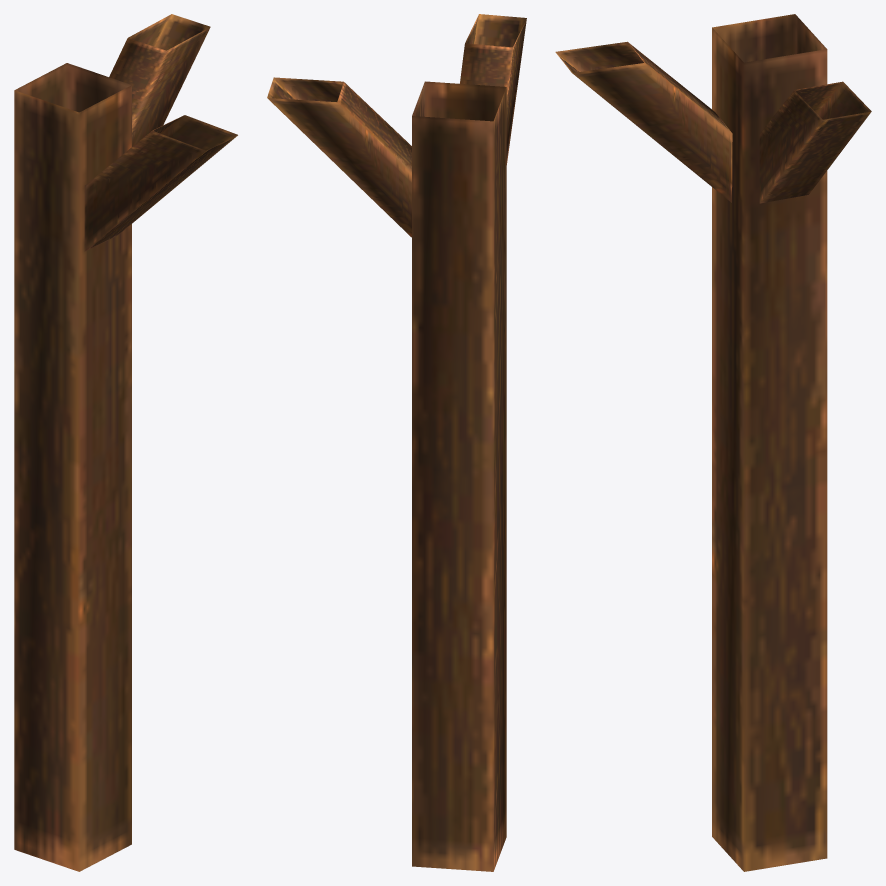
File: SWORDLIGHT20_JAILPLATSUPPORT58.fbx
3 views of the same model, side by side, from view 1: azimuth 30°, elevation 25°; view 2: azimuth 150°, elevation 25°; view 3: azimuth 270°, elevation 25° (orthographic). The views are drawn at different scales.
Parts seen in each view (by area): view 1: SWORDLIGHT20_JAILPLATSUPPORT58; view 2: SWORDLIGHT20_JAILPLATSUPPORT58; view 3: SWORDLIGHT20_JAILPLATSUPPORT58.
Part boxes in pixels (bbox=[...]): SWORDLIGHT20_JAILPLATSUPPORT58: bbox=[14, 14, 237, 871]; SWORDLIGHT20_JAILPLATSUPPORT58: bbox=[267, 14, 526, 871]; SWORDLIGHT20_JAILPLATSUPPORT58: bbox=[555, 14, 871, 871].
Bounding box in the file's own units: 11573 × 40261 × 14221.
Materials: 1 (1 with a texture image).
